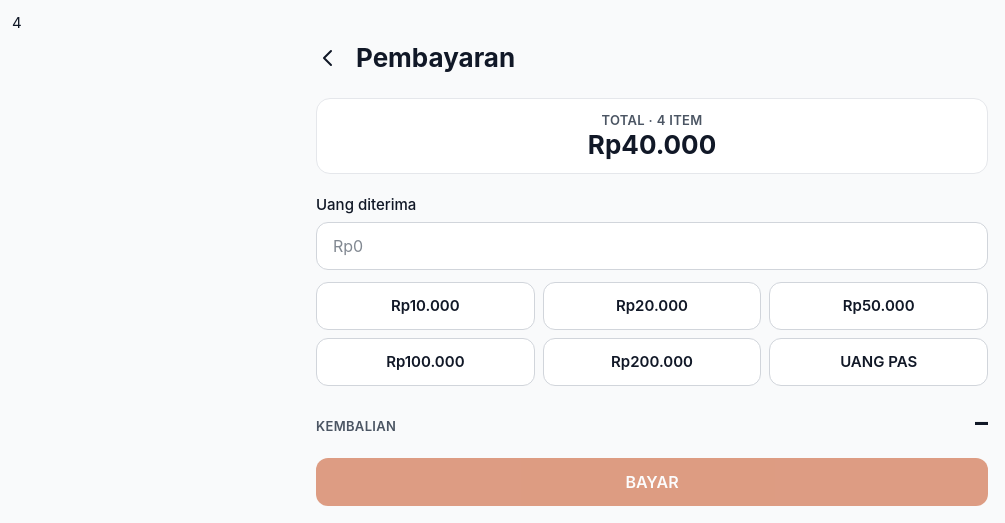
Scenario: PaymentForm (UI_SPEC A.12–A.13, TEST_PLAN G.4) › exact payment gives change Rp0
Expected: the text "Rp40.000" is shown, [588,129,716,160]
Type "40000" into the field labelled "Uang diterima" at x=652, y=246, box [316,222,988,270]
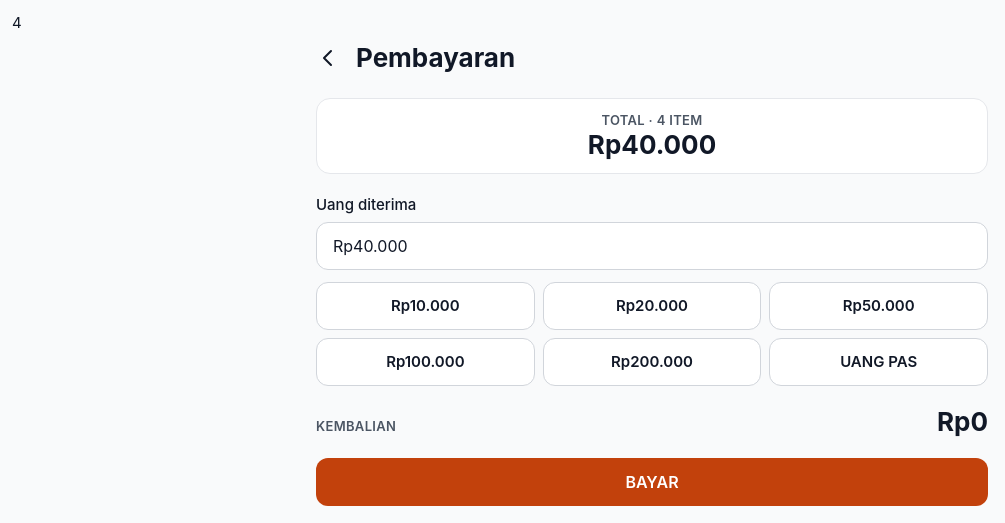
Expected: the text "Rp0" is shown, [937,406,988,438]
Expected: the button "BAYAR" is enabled, [316,458,988,506]
